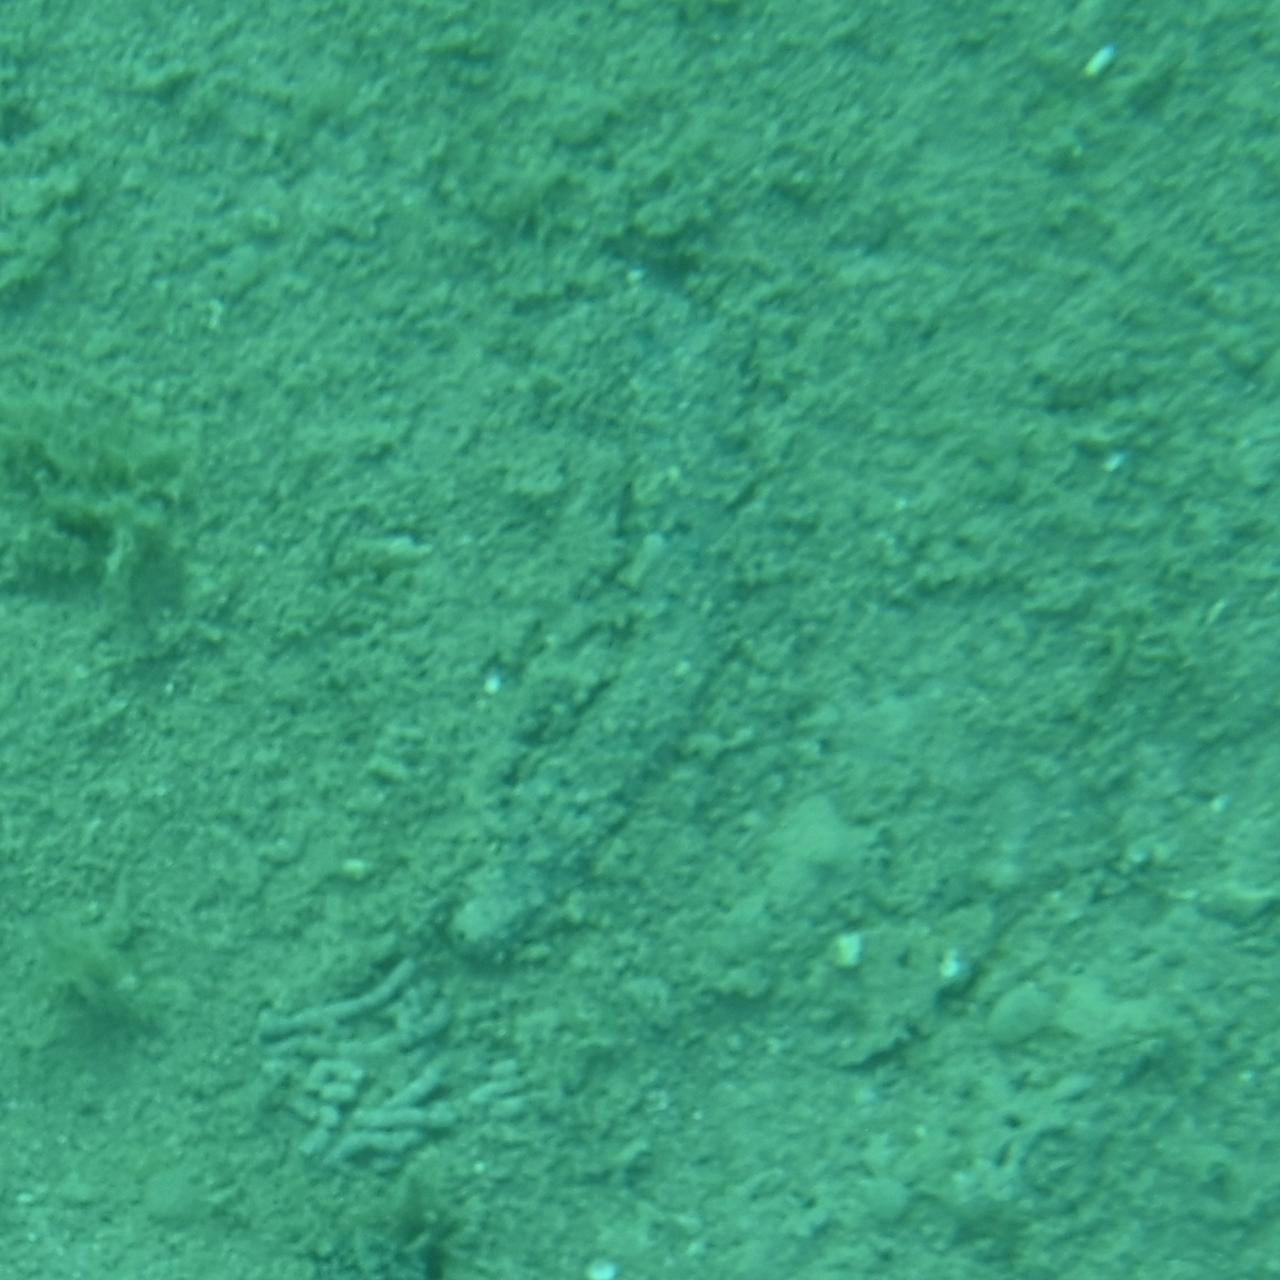Holothuria tubulosa: (454, 306, 826, 974)
